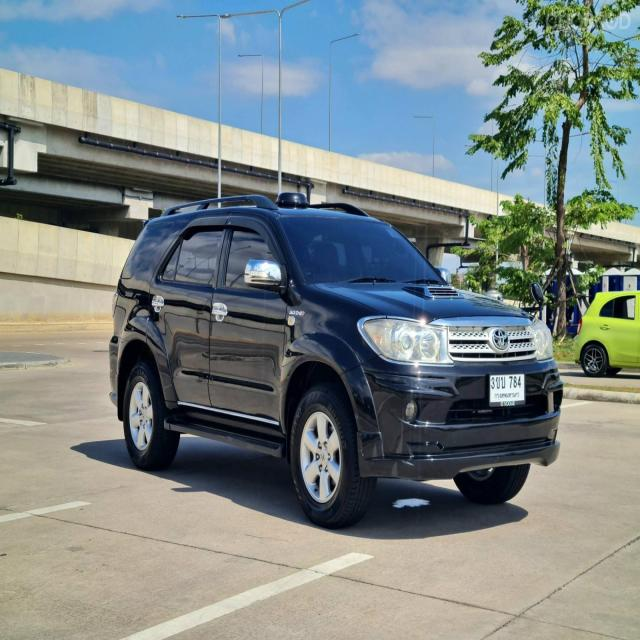license_plate: (484, 365, 527, 410)
